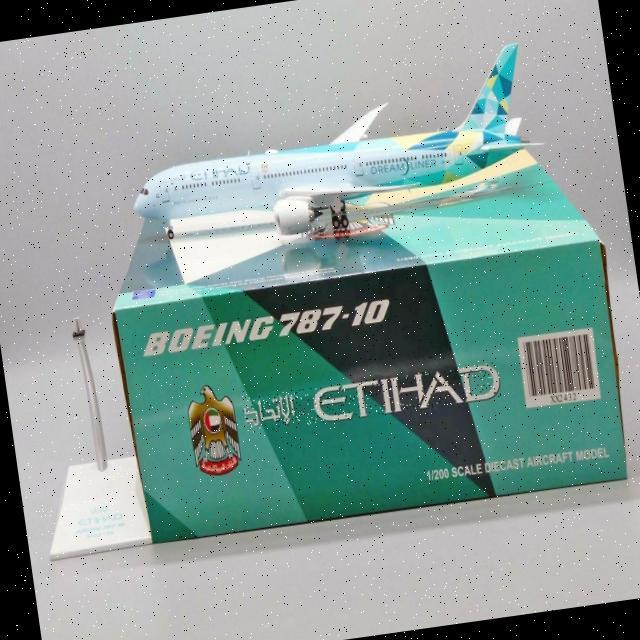Etihad Airways: (241, 362, 503, 434), (169, 164, 251, 186)
